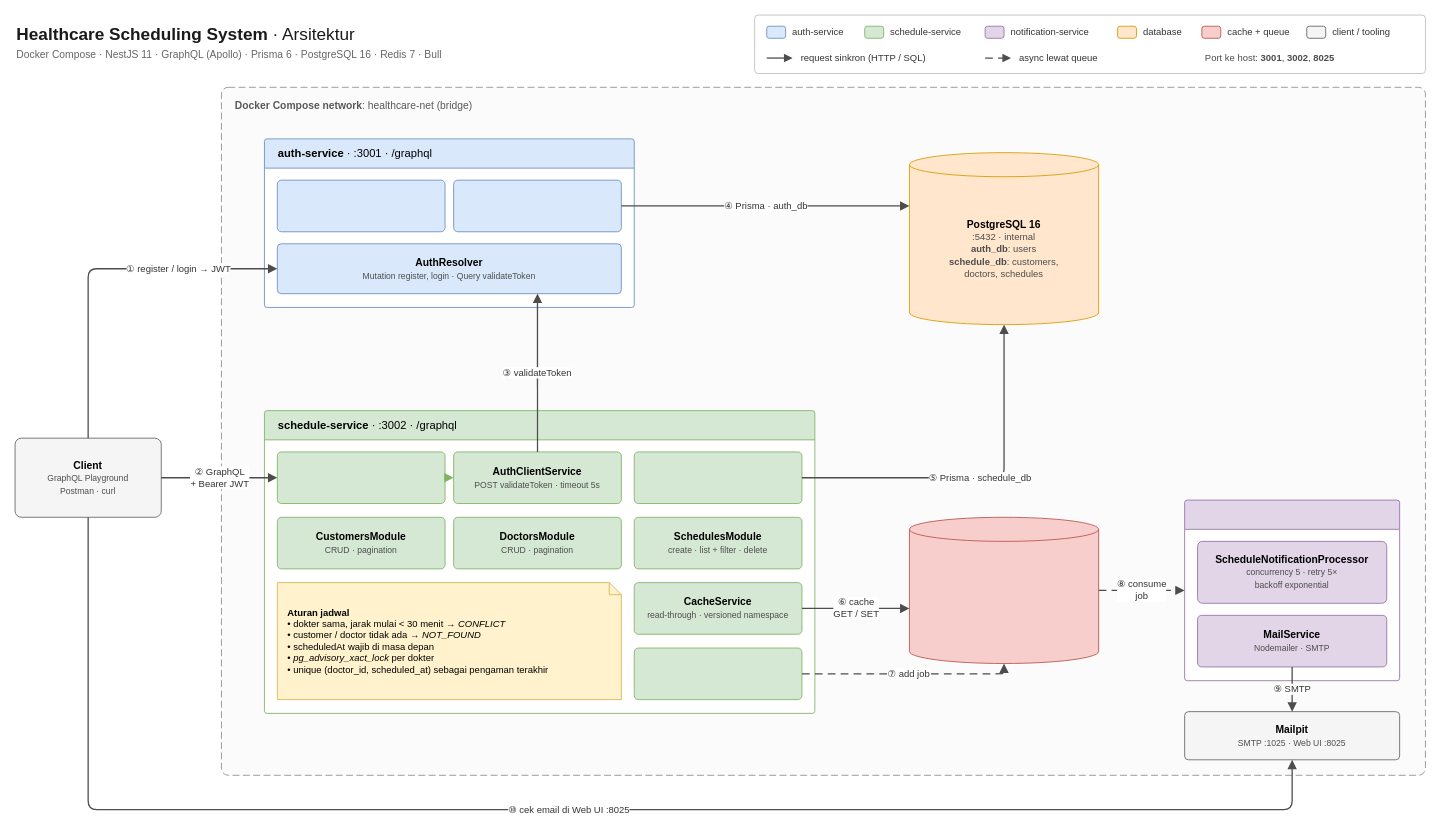
The diagram is 1441 pixels wide and 833 high, and some of its shapes have lost their labels. Here are the shapes that lost their labels. From the top down, the box of each, then its label:
(276, 179, 445, 232): AuthService bcrypt · JWT HS256
(453, 179, 621, 232): UsersService PrismaClient → users
(276, 451, 445, 504): GqlAuthGuard global guard · cek Bearer token
(633, 451, 802, 504): PrismaService schedule_db
(909, 516, 1099, 663): Redis 7 :6379 · internal cache:{ns}:v{n}:* · auth:token:* Bull queue: email
(1184, 499, 1400, 681): notification-service · worker
(633, 647, 802, 700): NotificationsService producer job email (Bull)
